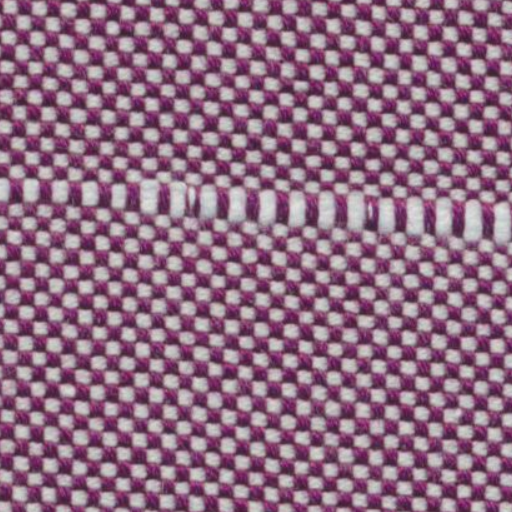DaiSha: (4, 154, 502, 252)
